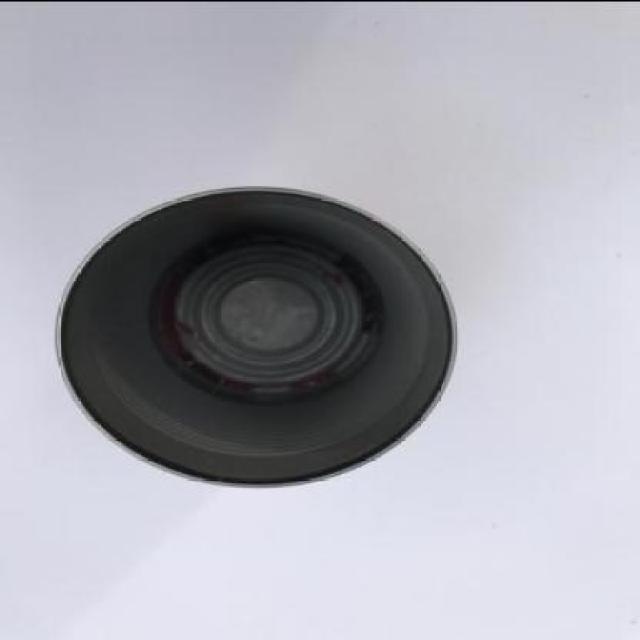METAL: (55, 185, 457, 487)
